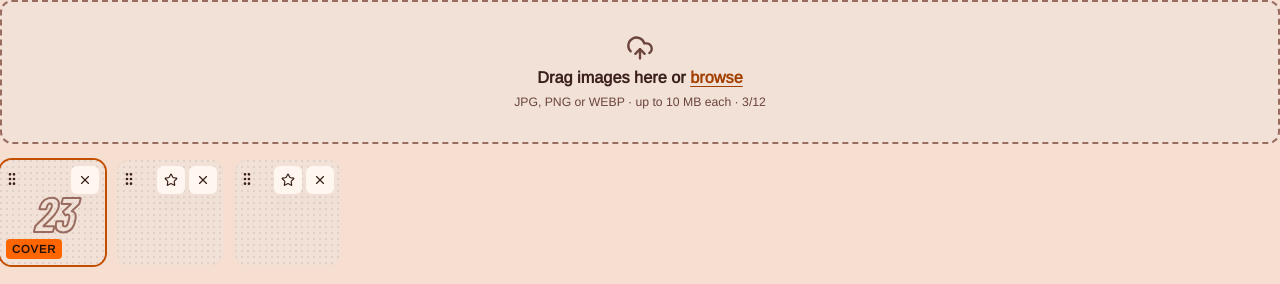
ImageUploader thumbnails (App. D.3) › moves an image to the cover, removes one, and reports each list
Click the 2nd button named "Make cover image".
click(288, 180)  # box x1=274 y1=166 x2=302 y2=194
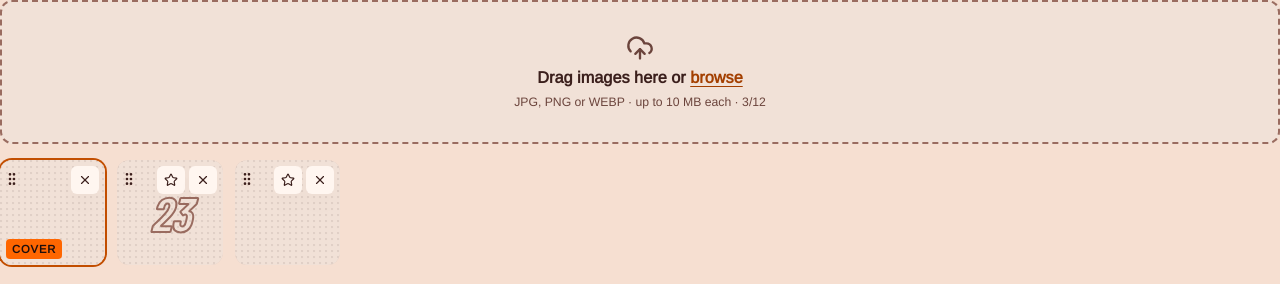
Check: the text "Cover" is shown, box x1=6 y1=240 x2=62 y2=260
Click the button named "Remove front-mockup.png".
click(203, 180)  # box x1=189 y1=166 x2=217 y2=194
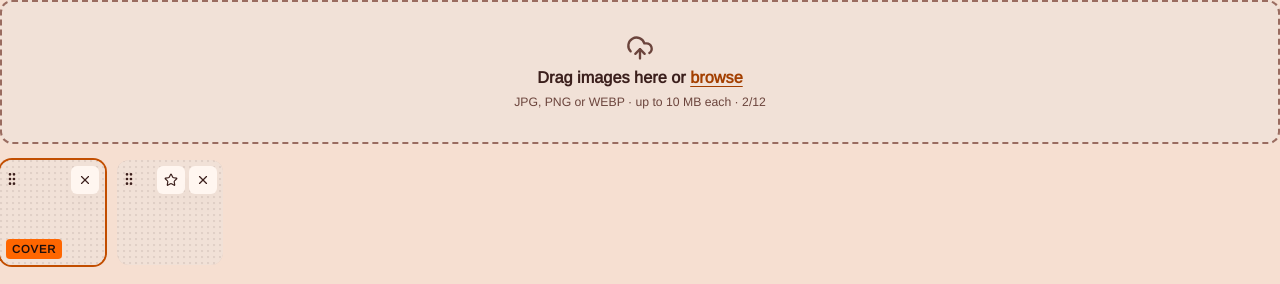
Check: the number of list items is 2, box x1=0 y1=160 x2=106 y2=266; x1=118 y1=160 x2=223 y2=266
